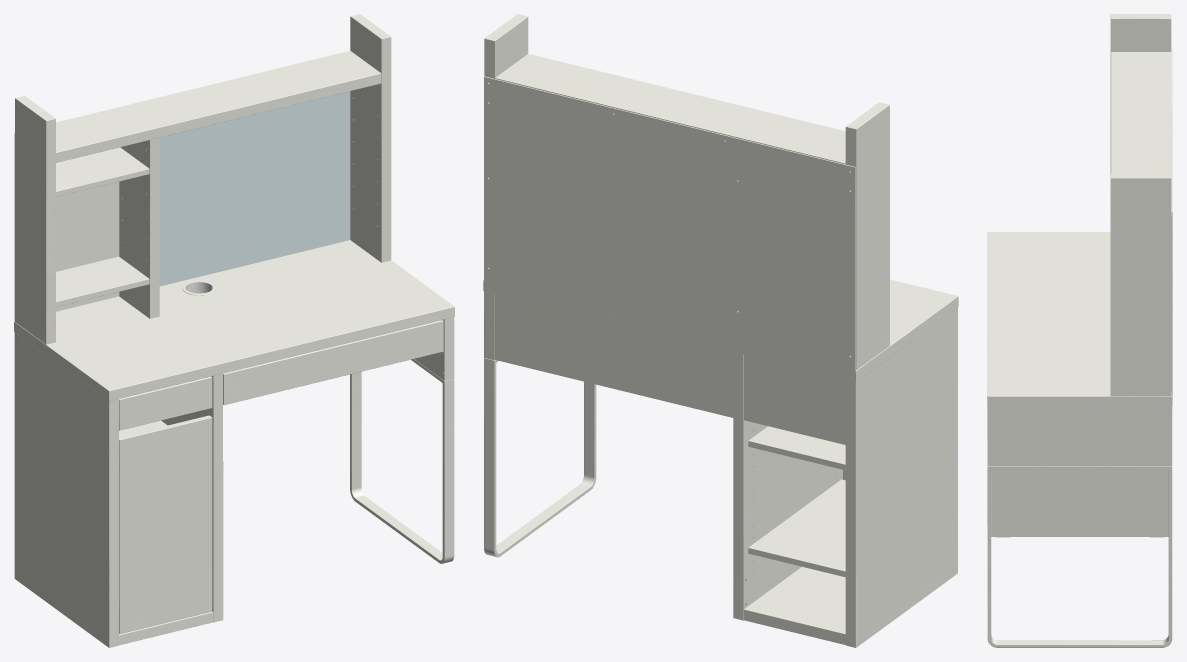
3 renders of one model, left to right at view 1: azimuth 30°, elevation 25°; view 2: azimuth 150°, elevation 25°; view 3: azimuth 270°, elevation 25°, orthographic. The views are drawn at different scales.
Visible parts, largest first — view 1: GLTF; view 2: GLTF; view 3: GLTF.
Part boxes in pixels (x1,y1,x2,y2): GLTF: (14,14,454,647); GLTF: (483,14,958,647); GLTF: (987,14,1172,647).
Bounding box in the file's own units: 1.05 × 1.4 × 0.4999.
1 material, 1 textured.
